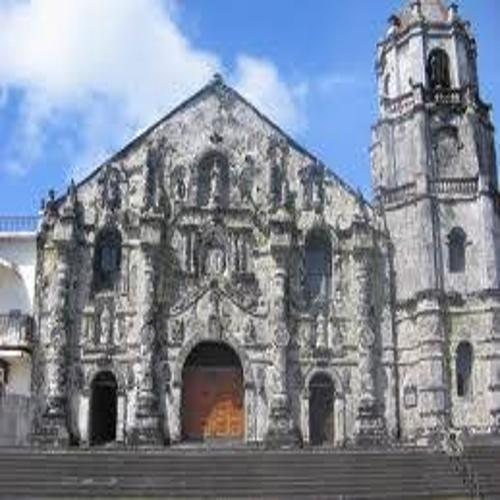Daraga Church: (40, 7, 500, 449)
